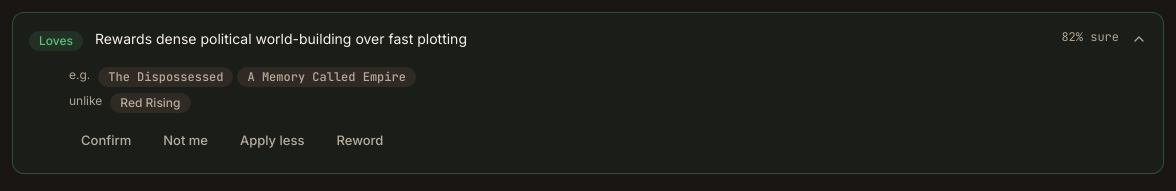
Scenario: TraitRow › hides verdict buttons while rewording
This screenshot has width=1176, height=191.
Click the button "Reword": (360, 141) [324,125,395,156]
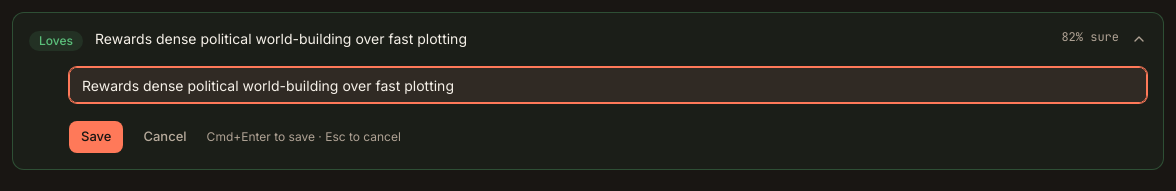
Expected: the button "Confirm" is gone
Expected: the button "Reword" is gone
